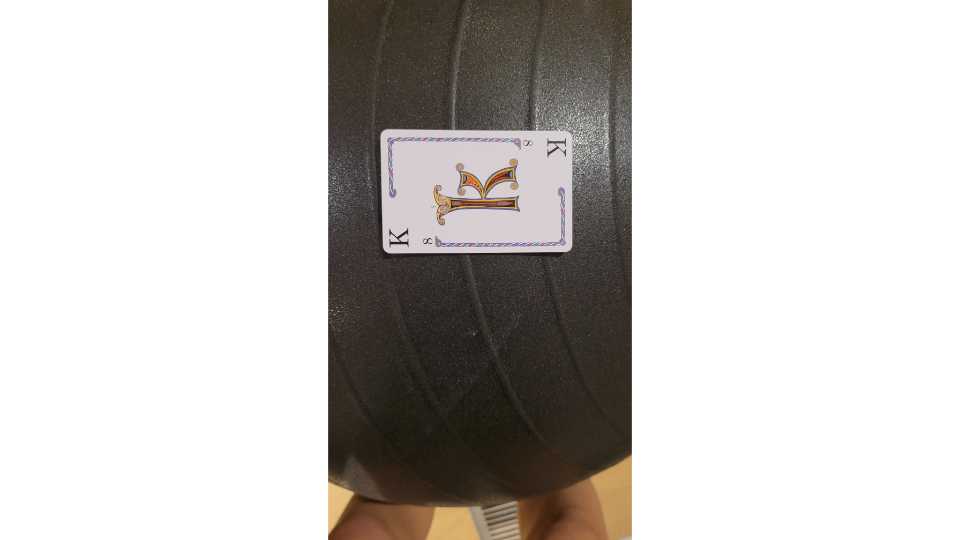K: (378, 124, 576, 260)
